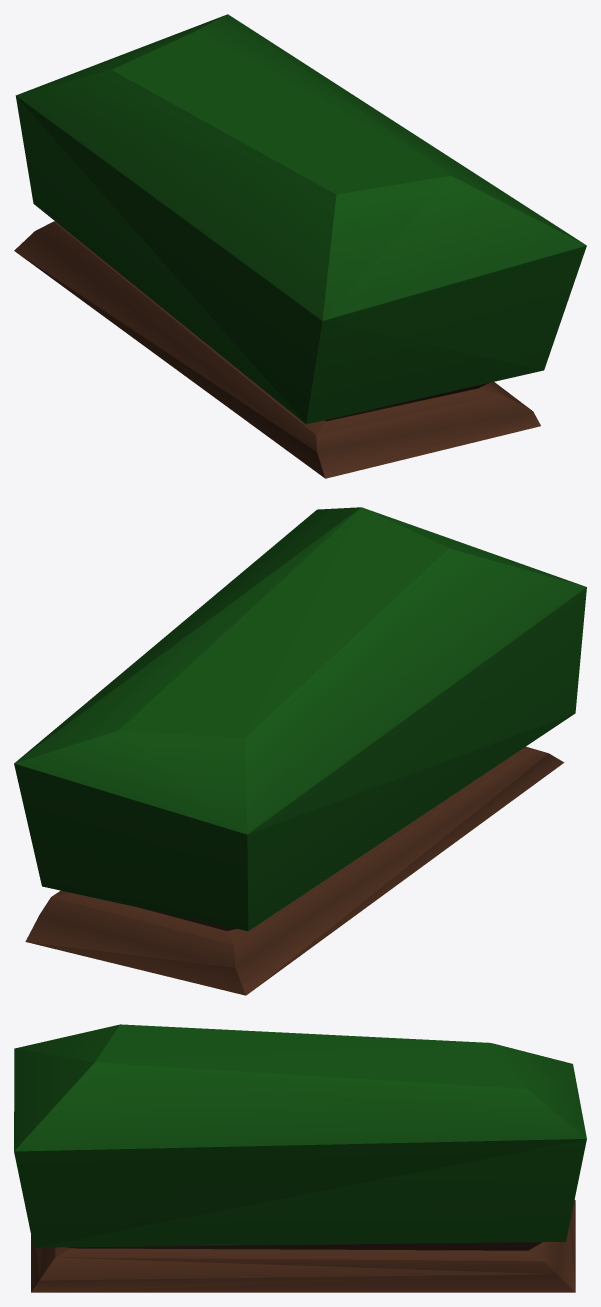
File: c_hedge_rect_ab.fbx
3 renders of one model, top to bottom at view 1: azimuth 30°, elevation 25°; view 2: azimuth 150°, elevation 25°; view 3: azimuth 270°, elevation 25°, orthographic. The views are drawn at different scales.
Visible parts, largest first — view 1: c_hedge_rect_ab; view 2: c_hedge_rect_ab; view 3: c_hedge_rect_ab.
Part boxes in pixels (x1,y1,x2,y2): c_hedge_rect_ab: [14, 14, 586, 478]; c_hedge_rect_ab: [14, 507, 586, 995]; c_hedge_rect_ab: [14, 1024, 586, 1292].
Bounding box in the file's own units: 1.29 × 1.09 × 2.74.
